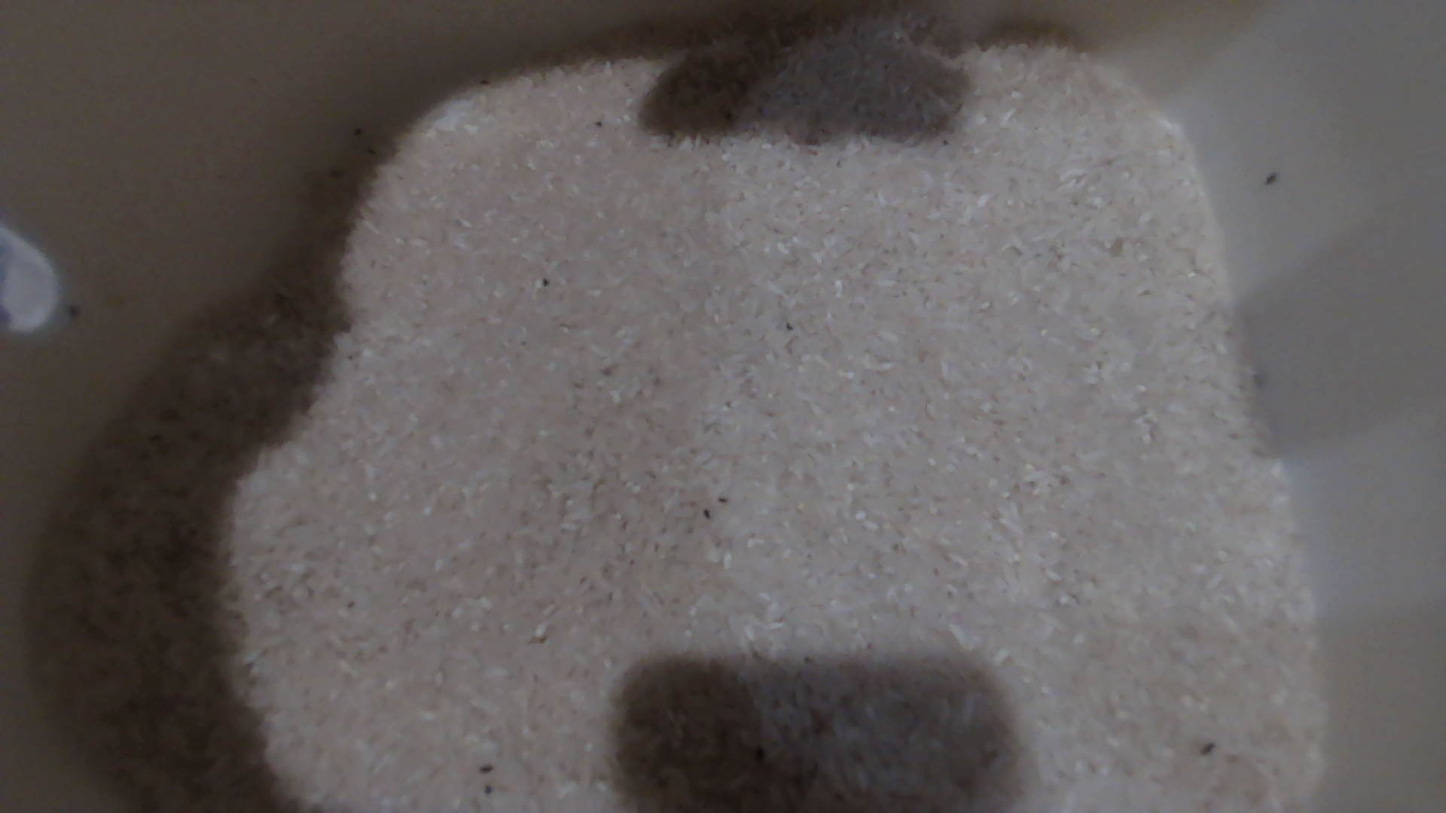Sitophilus-Oryzae: (66, 303, 80, 321), (1264, 172, 1278, 185), (703, 510, 711, 519), (718, 497, 728, 504)
